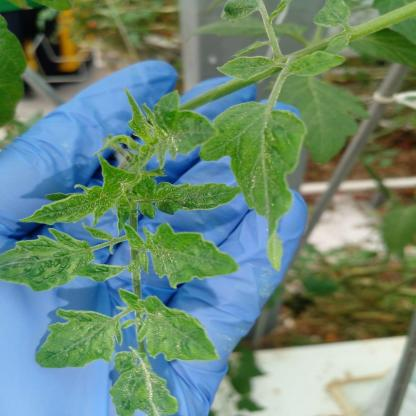T_L_R: (201, 103, 307, 269), (144, 224, 239, 289), (1, 229, 95, 292), (35, 310, 125, 369), (138, 298, 219, 362), (154, 92, 216, 168), (110, 349, 179, 416), (22, 187, 115, 225), (155, 183, 242, 216), (101, 158, 143, 200), (219, 57, 279, 81), (290, 52, 346, 77)
T_S_H: (181, 79, 264, 112), (347, 3, 416, 42)
T_S_R: (126, 202, 149, 298), (93, 237, 128, 255)
